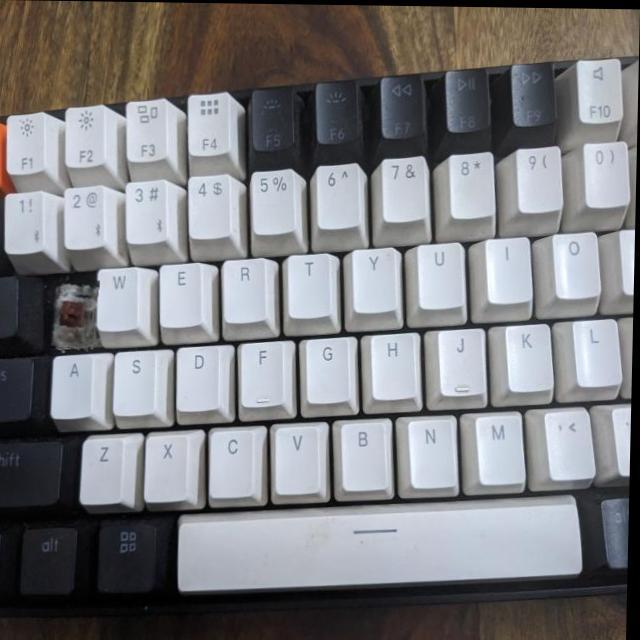key-switch: (51, 276, 98, 351)
